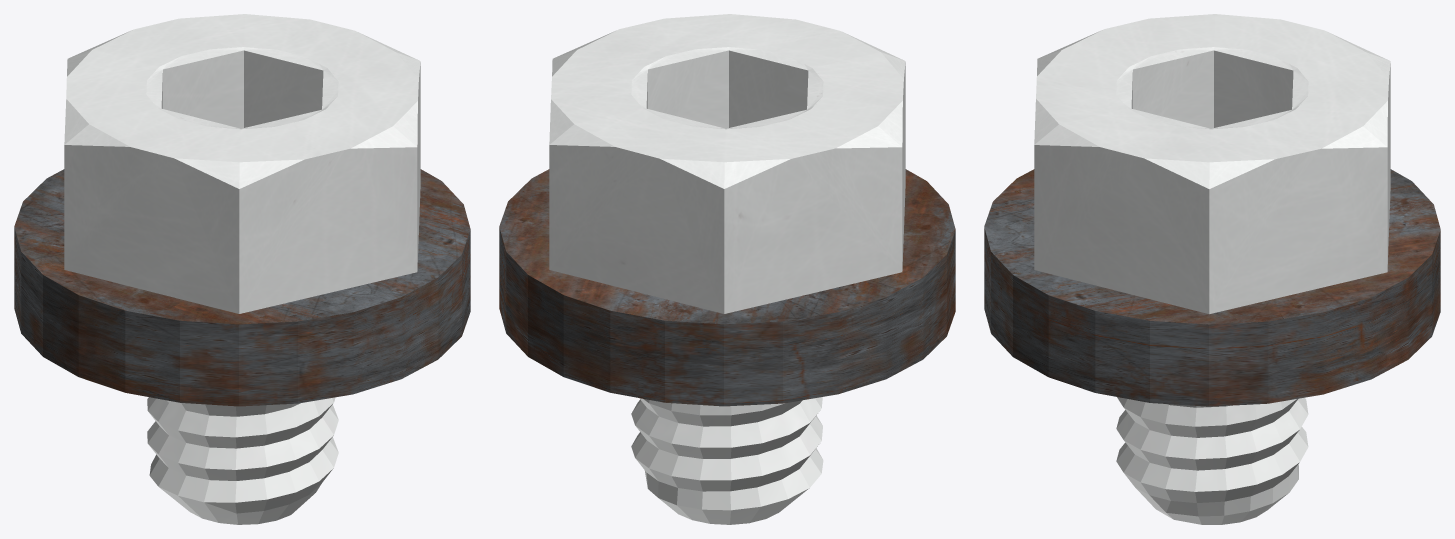
File: BoltAndNut.fbx
3 renders of one model, left to right at view 1: azimuth 30°, elevation 25°; view 2: azimuth 150°, elevation 25°; view 3: azimuth 270°, elevation 25°, orthographic.
Visible parts, largest first — view 1: PowerBoltReturning.001; view 2: PowerBoltReturning.001; view 3: PowerBoltReturning.001.
Boxes of the visible parts, bbox=[...] form: PowerBoltReturning.001: bbox=[14, 14, 470, 524]; PowerBoltReturning.001: bbox=[499, 14, 955, 524]; PowerBoltReturning.001: bbox=[984, 14, 1440, 524].
Bounding box in the file's own units: 109 × 109 × 109.
